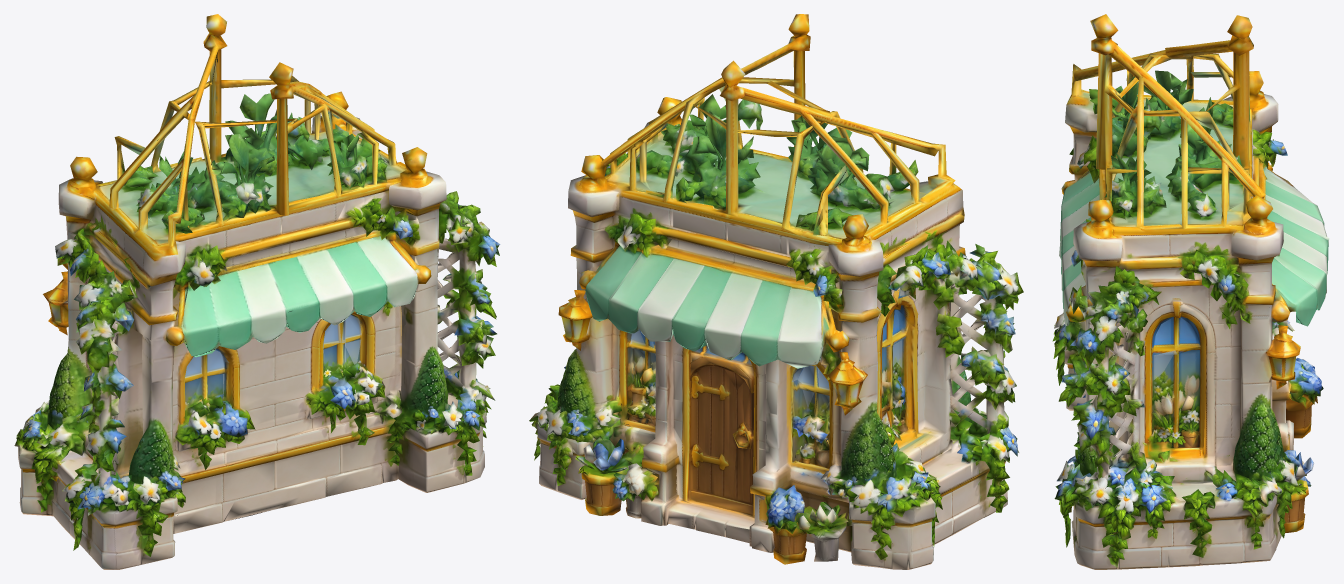
Rendered from HaloShop_Flower_parts.glb.
The picture shows the model from 3 angles, left to right: view 1: azimuth 30°, elevation 25°; view 2: azimuth 150°, elevation 25°; view 3: azimuth 270°, elevation 25°; orthographic projection.
Visible parts, largest first — view 1: HaloShop_Flower_Body_t01, HaloShop_Flower_Body_t00, HaloShop_Flower_Body_t10, HaloShop_Flower_Body_t11, HaloShop_Flower_Glass, HaloShop_Flower_WinPane, HaloShop_Flower_Awning; view 2: HaloShop_Flower_Body_t11, HaloShop_Flower_Body_t01, HaloShop_Flower_Body_t00, HaloShop_Flower_Body_t10, HaloShop_Flower_Awning, HaloShop_Flower_Door, HaloShop_Flower_Glass, HaloShop_Flower_WinPane; view 3: HaloShop_Flower_Body_t11, HaloShop_Flower_Body_t01, HaloShop_Flower_Body_t10, HaloShop_Flower_Body_t00, HaloShop_Flower_Awning, HaloShop_Flower_Glass, HaloShop_Flower_WinPane.
Boxes of the visible parts, left/top/right/bottom form: HaloShop_Flower_Body_t01: left=14, top=14, right=496, bottom=564; HaloShop_Flower_Body_t00: left=18, top=33, right=499, bottom=556; HaloShop_Flower_Body_t10: left=16, top=14, right=496, bottom=569; HaloShop_Flower_Body_t11: left=14, top=36, right=500, bottom=568; HaloShop_Flower_Glass: left=125, top=231, right=407, bottom=398; HaloShop_Flower_WinPane: left=125, top=231, right=407, bottom=396; HaloShop_Flower_Awning: left=57, top=233, right=187, bottom=351; HaloShop_Flower_Body_t11: left=535, top=40, right=1009, bottom=569; HaloShop_Flower_Body_t01: left=536, top=35, right=1023, bottom=569; HaloShop_Flower_Body_t00: left=531, top=14, right=1018, bottom=556; HaloShop_Flower_Body_t10: left=529, top=23, right=1019, bottom=564; HaloShop_Flower_Awning: left=562, top=215, right=924, bottom=381; HaloShop_Flower_Door: left=690, top=345, right=757, bottom=513; HaloShop_Flower_Glass: left=593, top=330, right=902, bottom=513; HaloShop_Flower_WinPane: left=594, top=330, right=901, bottom=512; HaloShop_Flower_Body_t11: left=1055, top=35, right=1299, bottom=569; HaloShop_Flower_Body_t01: left=1052, top=33, right=1321, bottom=558; HaloShop_Flower_Body_t10: left=1054, top=15, right=1323, bottom=569; HaloShop_Flower_Body_t00: left=1054, top=14, right=1317, bottom=547; HaloShop_Flower_Awning: left=1119, top=139, right=1329, bottom=364; HaloShop_Flower_Glass: left=1070, top=256, right=1316, bottom=500; HaloShop_Flower_WinPane: left=1071, top=256, right=1316, bottom=499.
Bounding box in the file's own units: 28.6 × 28.95 × 15.82.
Materials: 9 (8 with a texture image).
